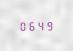four: (36, 19, 44, 30)
nine: (45, 19, 53, 30)
six: (27, 20, 35, 31)
zero: (18, 20, 26, 31)
